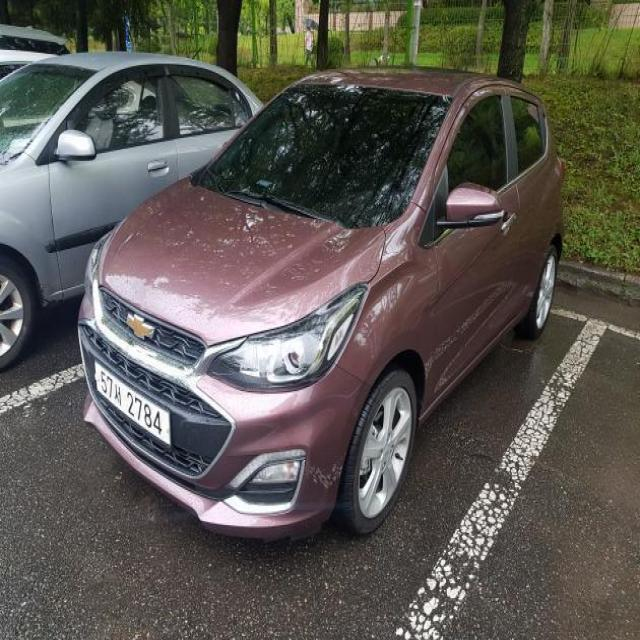car: (77, 60, 566, 543)
illegal_plate: (94, 356, 176, 454)
